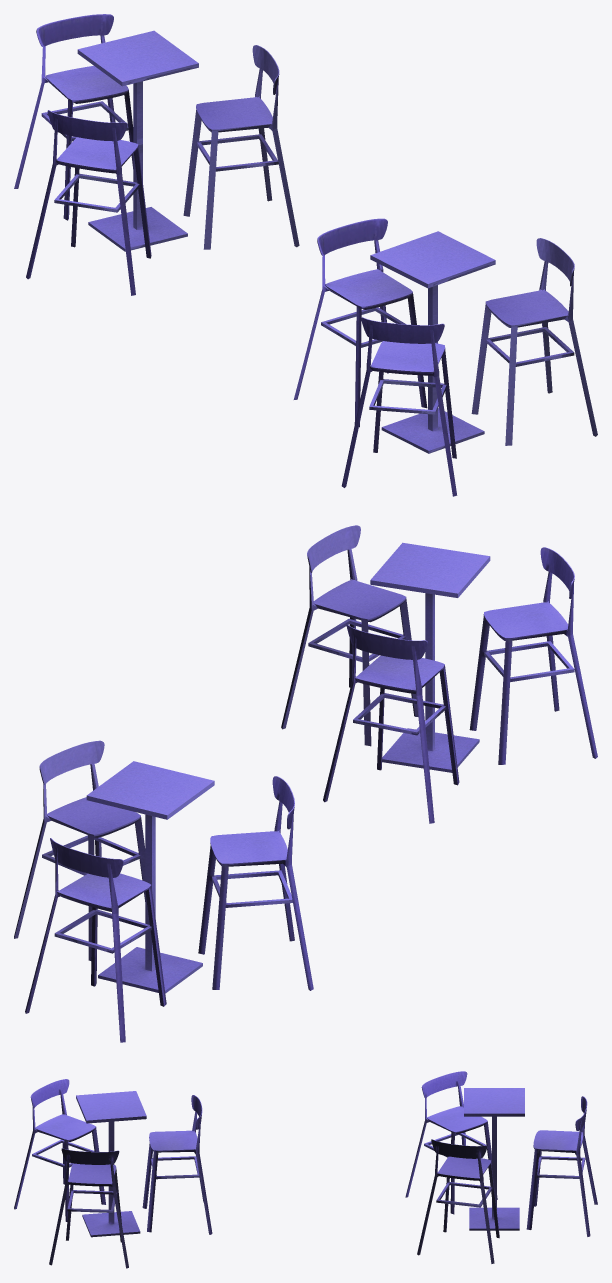
Rendered from ey_verse_tables_and_chairs.glb.
3 renders of one model, top to bottom at view 1: azimuth 30°, elevation 25°; view 2: azimuth 150°, elevation 25°; view 3: azimuth 270°, elevation 25°, orthographic. The views are drawn at different scales.
Parts seen in each view (by area): view 1: ey_verse_tables_and_chairs; view 2: ey_verse_tables_and_chairs; view 3: ey_verse_tables_and_chairs.
Boxes of the visible parts, <box> form: ey_verse_tables_and_chairs: <box>14,14,597,496</box>; ey_verse_tables_and_chairs: <box>14,525,597,1042</box>; ey_verse_tables_and_chairs: <box>14,1071,597,1268</box>.
Size of the model in its own units: 1.89 by 1.14 by 5.04.
1 material, 1 textured.
